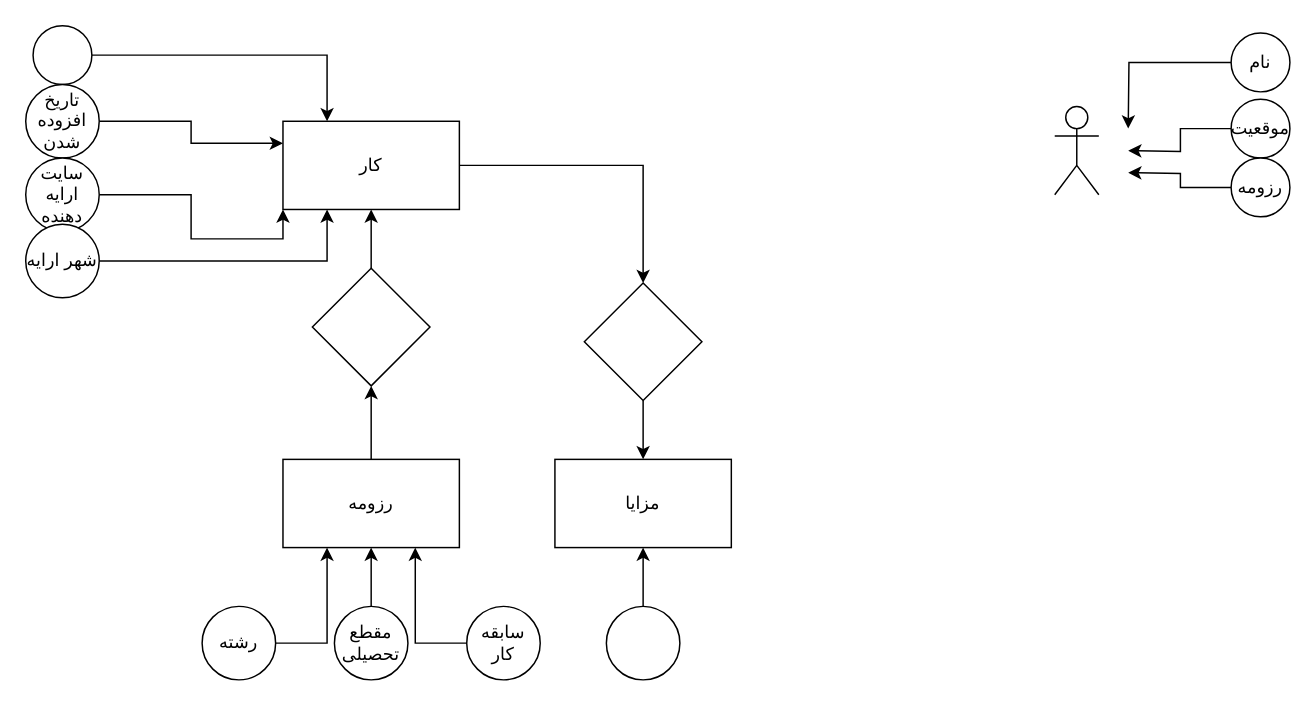
Some shapes in this 1316 by 706 pixel diagram are drawn without their labels. The shapes that lost their labels are listed below. From the top down, each one's box as (x1, y1, x2, y2) in pixels, then its label:
(32, 24, 92, 85): نام کار
(1053, 105, 1099, 195): Actor
(311, 267, 430, 386): نیازمند
(583, 282, 702, 401): دارای
(605, 605, 680, 680): درآمد
